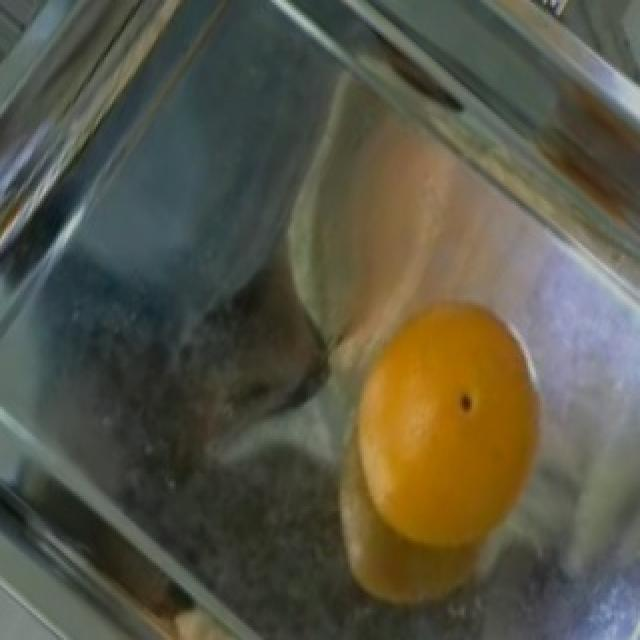Fruit: (318, 280, 568, 623), (102, 595, 302, 640)
